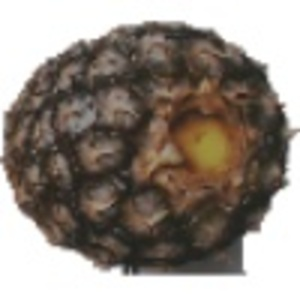abacaxi: (3, 17, 283, 264)
